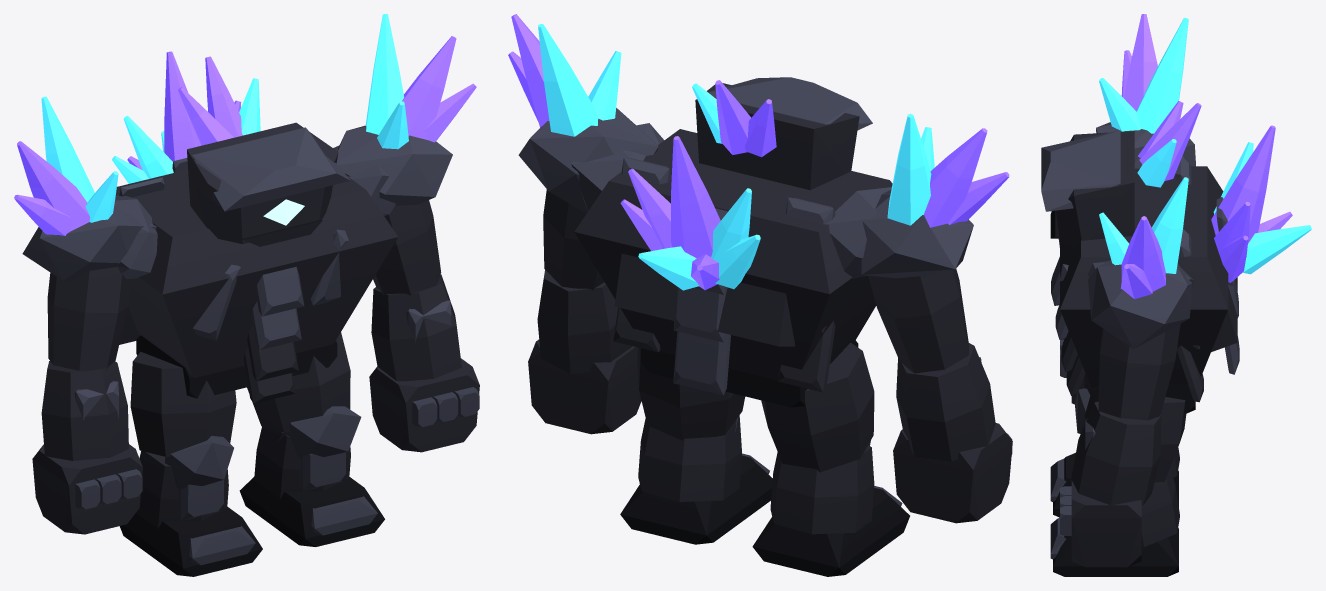
File: golem.glb
3 renders of one model, left to right at view 1: azimuth 30°, elevation 25°; view 2: azimuth 150°, elevation 25°; view 3: azimuth 270°, elevation 25°, orthographic. The views are drawn at different scales.
Parts seen in each view (by area): view 1: body, legR, armR, head, legL, armL, foreR, handR, handL, foreL; view 2: body, legR, armR, legL, armL, head, foreR, handR, handL, foreL; view 3: body, armL, head, foreL, legL, armR, handL, legR.
Part boxes in pixels (x1,y1,x2,y2): body: (112,51,397,403); legR: (119,351,262,576); armR: (14,96,156,370); head: (178,56,350,246); legL: (239,332,384,546); armL: (336,14,476,296); foreR: (41,361,128,460); handR: (32,444,142,534); handL: (369,358,479,452); foreL: (371,274,461,381); body: (571,123,892,407); legR: (752,342,909,576); armR: (857,113,1009,373); legL: (620,347,772,544); armL: (508,14,658,290); head: (692,77,872,190); foreR: (896,343,995,461); handR: (893,423,1012,523); handL: (528,339,641,434); foreL: (537,270,632,373); body: (1051,125,1311,413); armL: (1088,177,1192,420); head: (1041,101,1201,246); foreL: (1071,401,1161,505); legL: (1050,390,1186,576); armR: (1096,14,1195,166); handL: (1060,480,1141,567); legR: (1050,373,1179,517).
Bounding box in the file's own units: 2.19 × 2.04 × 1.16.
